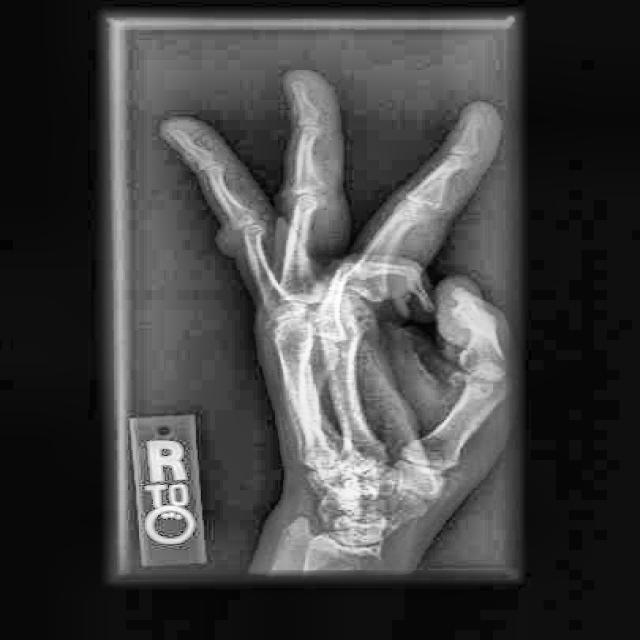fingers positive: (287, 163, 323, 218)
